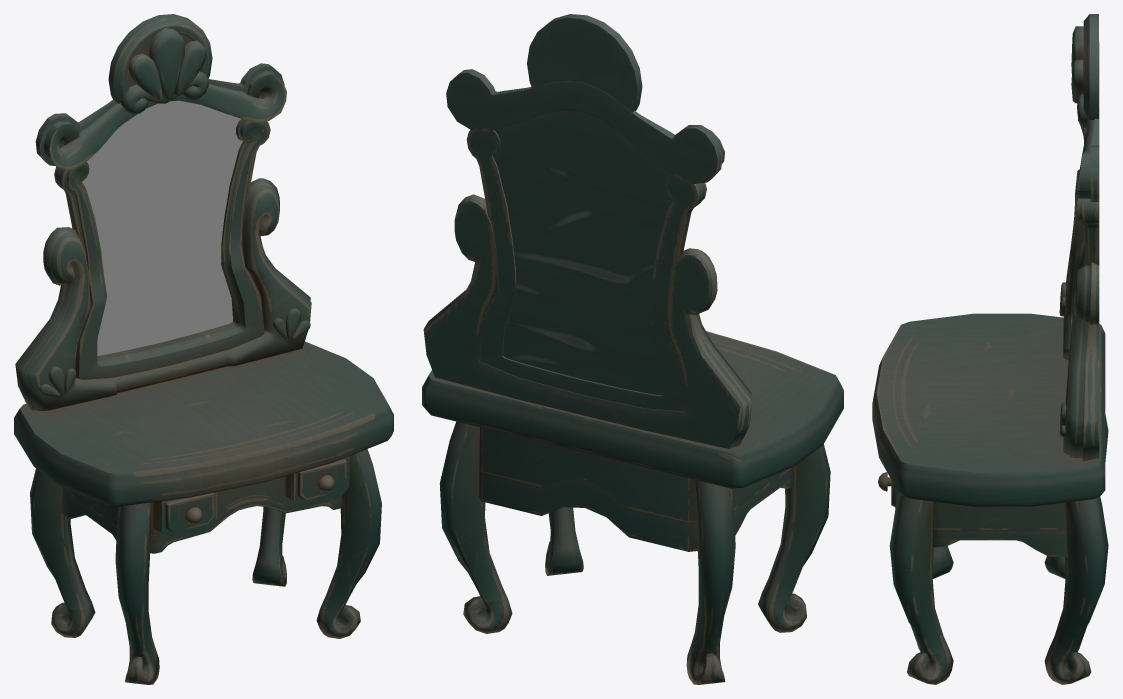
The picture shows the model from 3 angles, left to right: view 1: azimuth 30°, elevation 25°; view 2: azimuth 150°, elevation 25°; view 3: azimuth 270°, elevation 25°; orthographic projection. The views are drawn at different scales.
Visible parts, largest first — view 1: swirlTop_low; view 2: swirlTop_low; view 3: swirlTop_low.
Part boxes in pixels (x1,y1,x2,y2): swirlTop_low: [14, 14, 393, 684]; swirlTop_low: [422, 14, 843, 684]; swirlTop_low: [872, 14, 1108, 684].
Bounding box in the file's own units: 1.15 × 2 × 0.7027.
1 material, 1 textured.
